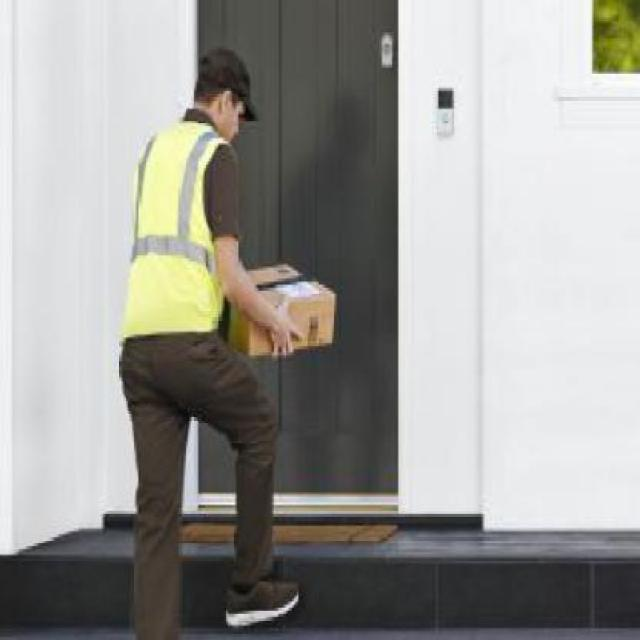cardboxes: (205, 256, 342, 366)
